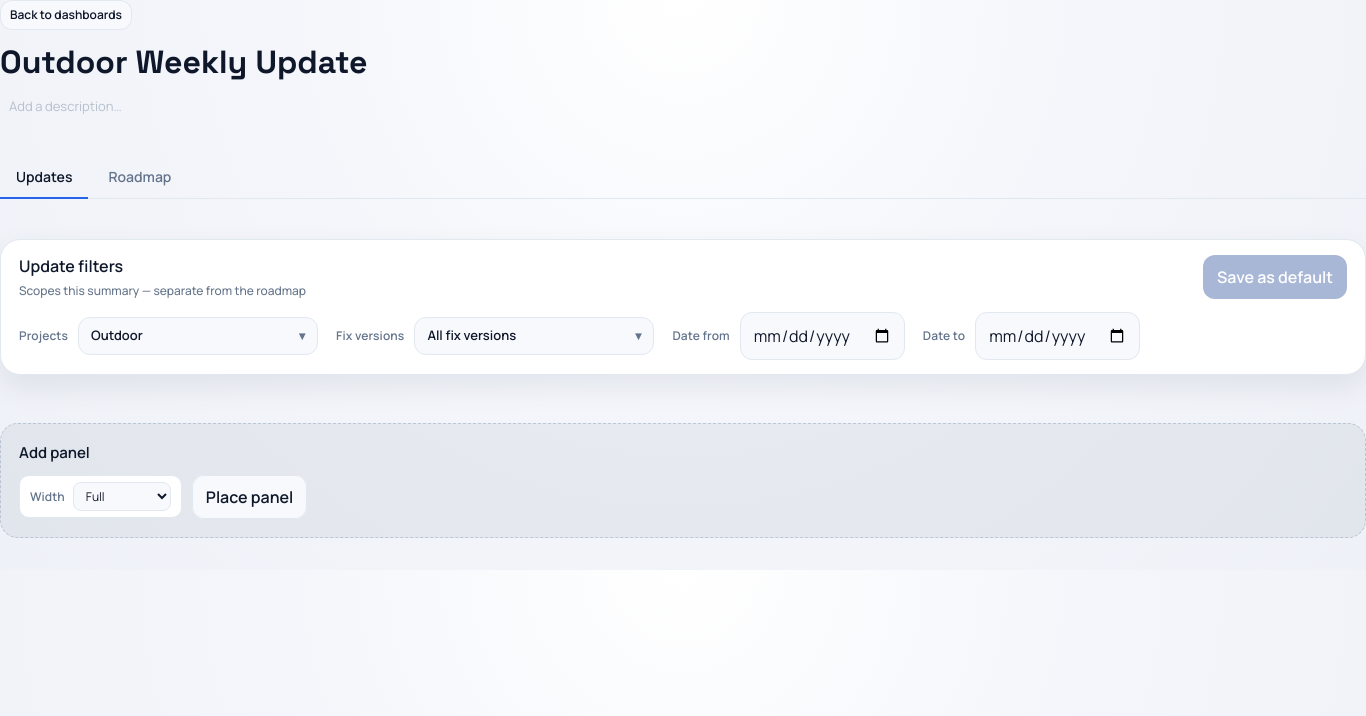
Filters › shows error message when increment start is after increment end
Step 1. Click the tab "Roadmap" → (140, 178), box [92,156,187,199]
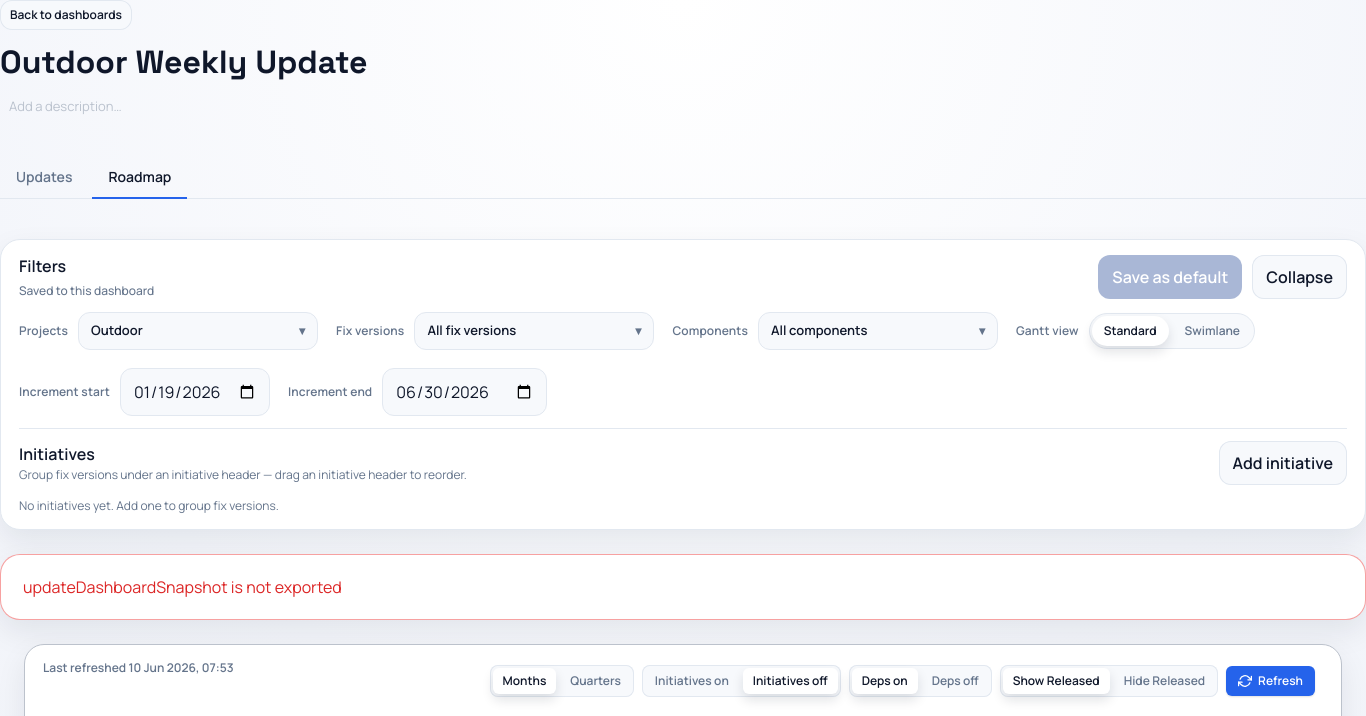
Step 2. Type "2026-12-01" into the date field showing "2026-01-19" next to "Increment start" → (195, 392), box [120,368,270,416]
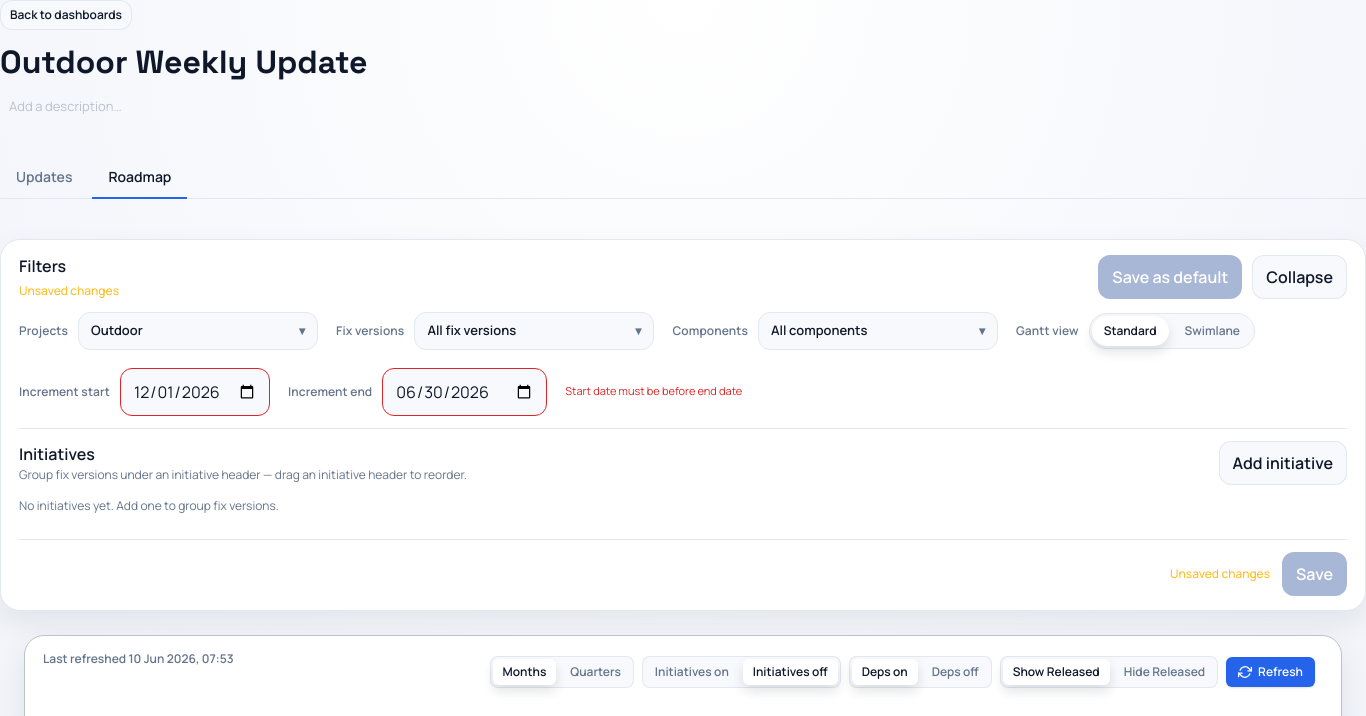
expect the text "Start date must be before end date" is shown: met, box [565,383,742,400]
